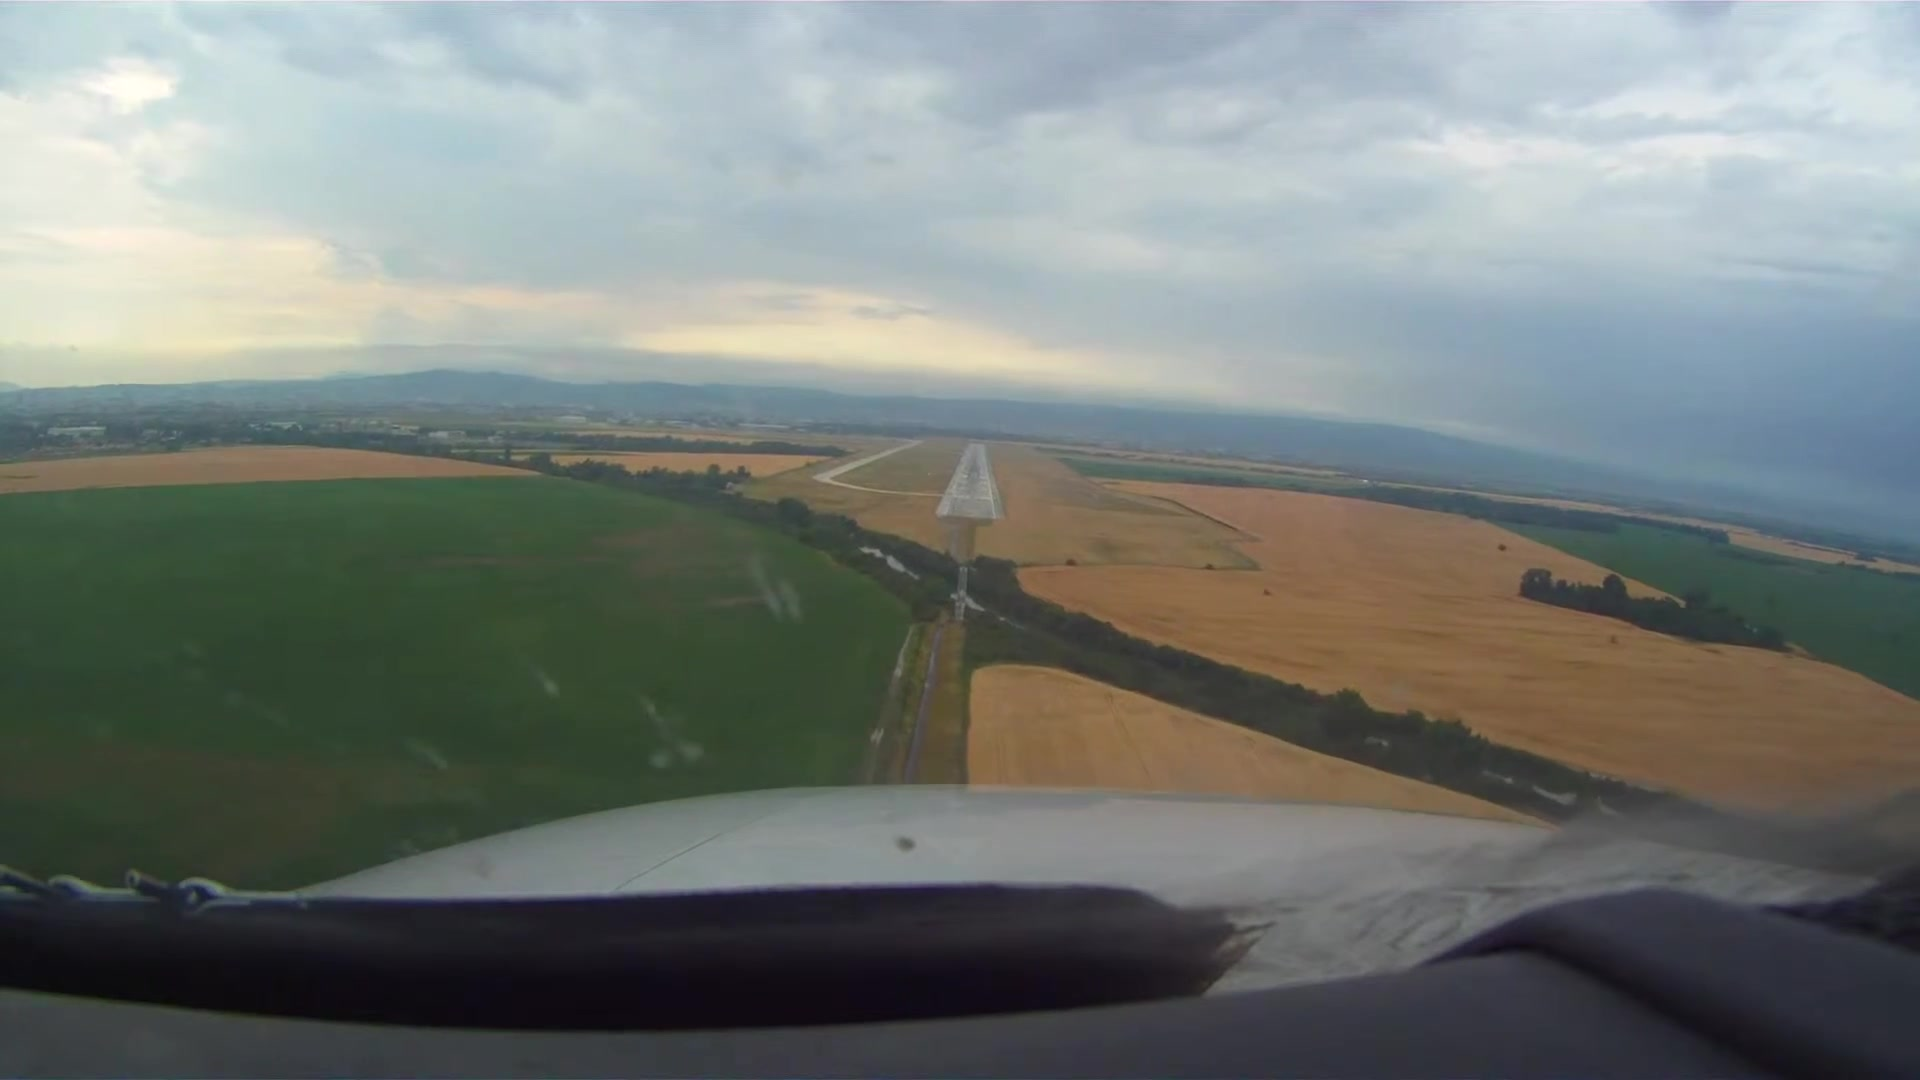runway: (938, 444, 1004, 518)
